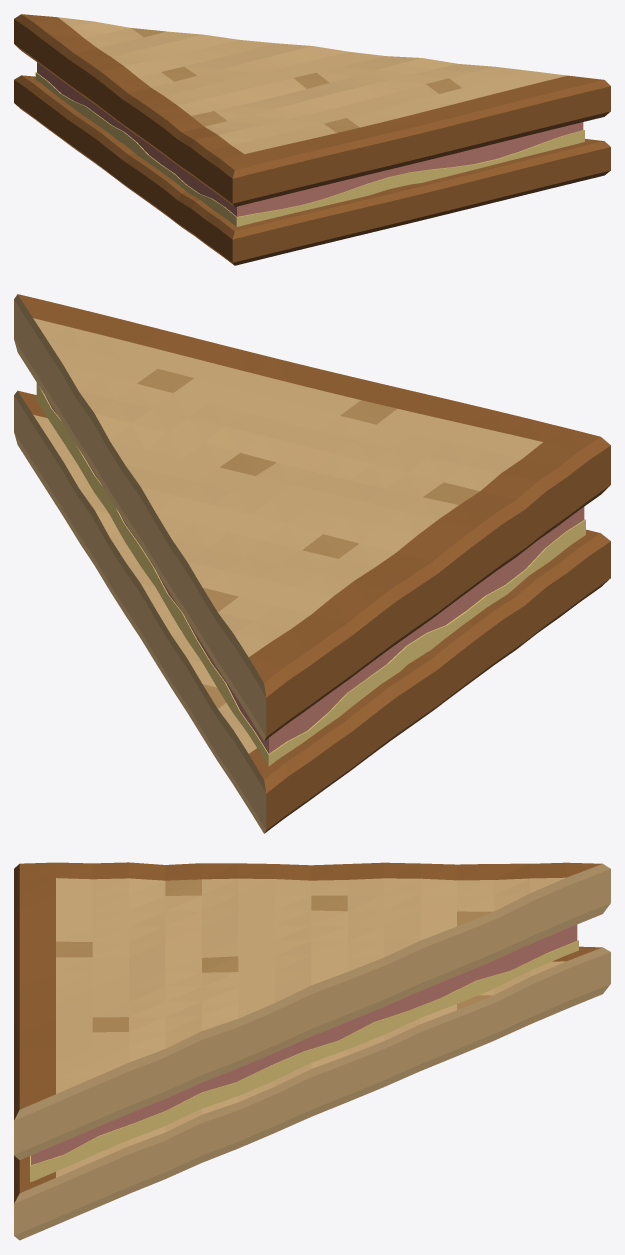
3 views of the same model, one above another, from view 1: azimuth 30°, elevation 25°; view 2: azimuth 150°, elevation 25°; view 3: azimuth 270°, elevation 25° (orthographic). The views are drawn at different scales.
Visible parts, largest first — view 1: NEW326_top_bread, NEW326_bottom_bread, NEW326_filling, NEW326_cheese; view 2: NEW326_top_bread, NEW326_bottom_bread, NEW326_cheese, NEW326_filling; view 3: NEW326_top_bread, NEW326_bottom_bread, NEW326_cheese, NEW326_filling.
Boxes of the visible parts, left/top/right/bottom form: NEW326_top_bread: left=14, top=14, right=610, bottom=206; NEW326_bottom_bread: left=14, top=75, right=610, bottom=265; NEW326_filling: left=37, top=62, right=583, bottom=216; NEW326_cheese: left=35, top=72, right=584, bottom=226; NEW326_top_bread: left=14, top=294, right=610, bottom=740; NEW326_bottom_bread: left=14, top=390, right=610, bottom=833; NEW326_cheese: left=36, top=383, right=585, bottom=766; NEW326_filling: left=45, top=396, right=584, bottom=753; NEW326_top_bread: left=14, top=862, right=610, bottom=1160; NEW326_bottom_bread: left=14, top=946, right=610, bottom=1240; NEW326_cheese: left=30, top=940, right=578, bottom=1181; NEW326_filling: left=31, top=924, right=577, bottom=1165.
Bounding box in the file's own units: 0.11 × 0.0271 × 0.11.
